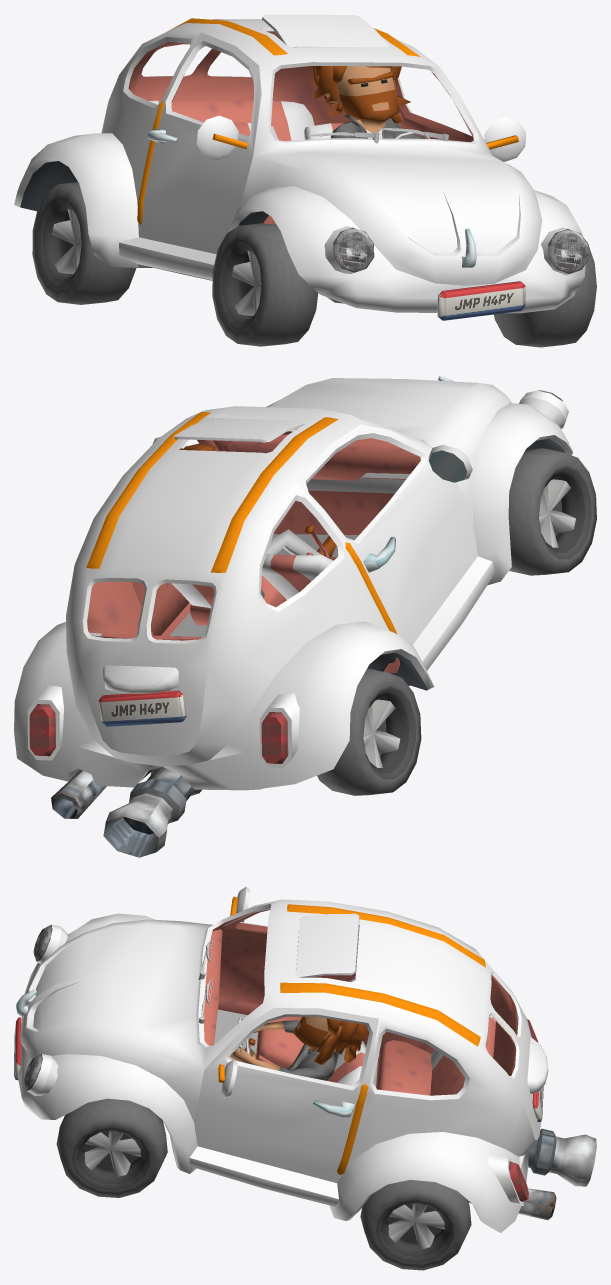
File: beetle.web.out.gltf
The picture shows the model from 3 angles, top to bottom: view 1: azimuth 30°, elevation 25°; view 2: azimuth 150°, elevation 25°; view 3: azimuth 270°, elevation 25°; orthographic projection. The views are drawn at different scales.
Visible parts, largest first — view 1: webcar; view 2: webcar; view 3: webcar.
Boxes of the visible parts, left/top/right/bottom form: webcar: left=14, top=14, right=596, bottom=347; webcar: left=14, top=376, right=596, bottom=857; webcar: left=14, top=887, right=596, bottom=1270.
Size of the model in its own units: 2.6 by 2.37 by 4.26.
2 materials, 1 textured.
